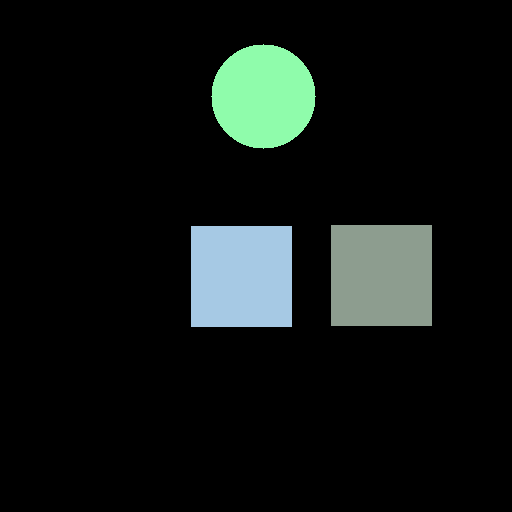circle: (211, 44, 315, 148)
square: (191, 226, 291, 326), (331, 225, 431, 325)
